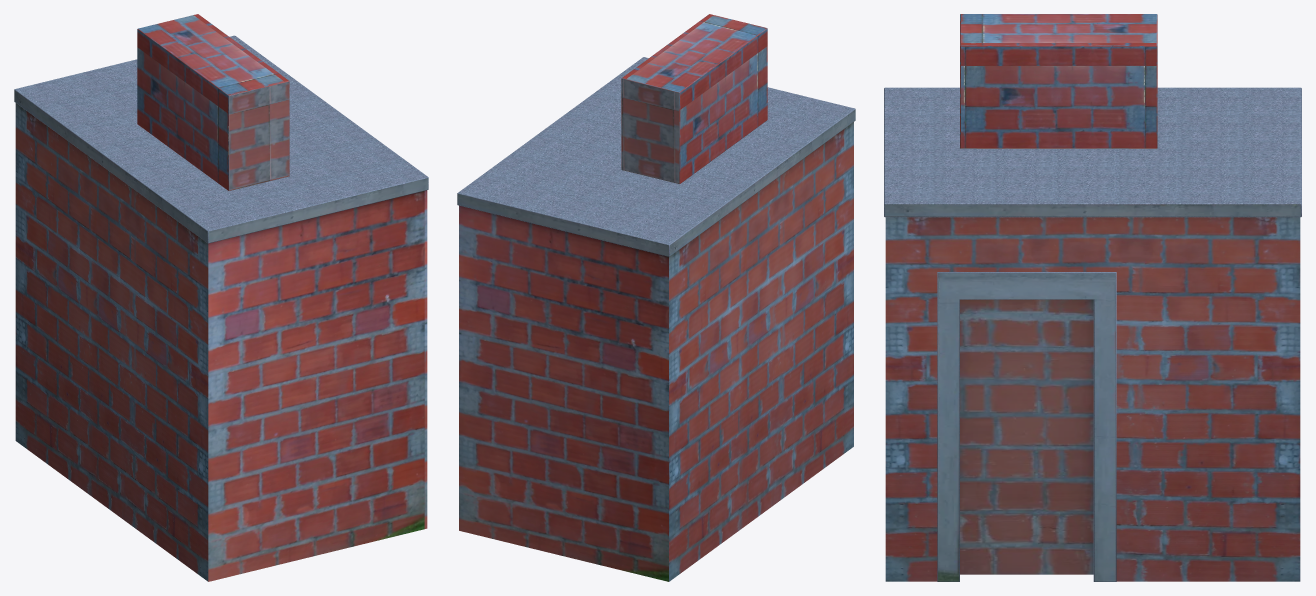
Rendered from preview.glb.
3 views of the same model, side by side, from view 1: azimuth 30°, elevation 25°; view 2: azimuth 150°, elevation 25°; view 3: azimuth 270°, elevation 25° (orthographic). The views are drawn at different scales.
Parts seen in each view (by area): view 1: Material2 (×6); view 2: Material2 (×6); view 3: Material2 (×4).
Part boxes in pixels (x1,y1,x2,y2): Material2 (×6): (14, 14, 428, 581); Material2 (×6): (457, 14, 855, 581); Material2 (×4): (884, 14, 1301, 581).
Bounding box in the file's own units: 71.26 × 138 × 108.
Materials: 7 (6 with a texture image).
